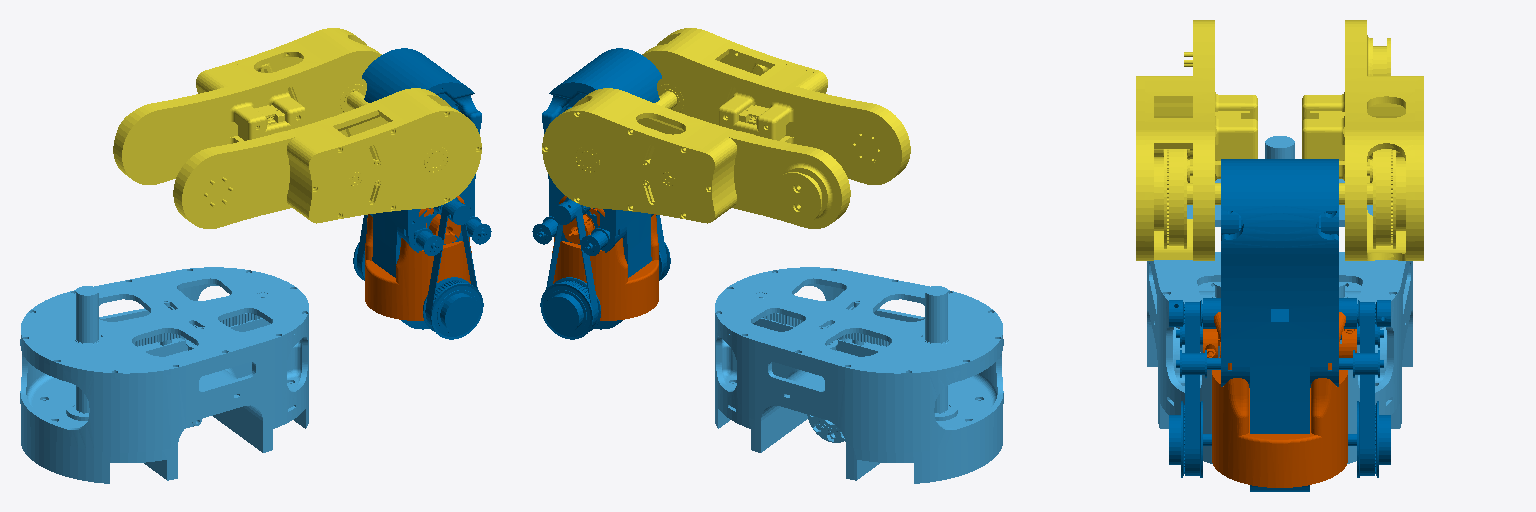
The robot description file, URDF, robot "robot_arm":
<?xml version="1.0"?>
<robot name="robot_arm">

  <link name="base">
    <visual>
      <origin xyz="0 0 0" rpy="0 0 0"/>
      <geometry>
        <mesh filename="package://robot_description/meshes_robot/base.stl" scale="0.001 0.001 0.001"/>
      </geometry>
    </visual>
  </link>

  <link name="link1">
    <visual>
      <origin xyz="0 0 0" rpy="0 0 0"/>
      <geometry>
        <mesh filename="package://robot_description/meshes_robot/link1.stl" scale="0.001 0.001 0.001"/>
      </geometry>
    </visual>
    <inertial>
      <mass value="0.3"/>
      <inertia ixx="1e-3" iyy="1e-3" izz="1e-3" ixy="0" ixz="0" iyz="0"/>
    </inertial>
  </link>

  <link name="link2">
    <visual>
      <origin xyz="0 0 0" rpy="0 0 0"/>
      <geometry>
        <mesh filename="package://robot_description/meshes_robot/link2.stl" scale="0.001 0.001 0.001"/>
      </geometry>
    </visual>
    <inertial>
      <mass value="0.3"/>
      <inertia ixx="1e-3" iyy="1e-3" izz="1e-3" ixy="0" ixz="0" iyz="0"/>
    </inertial>
  </link>

  <link name="link3">
    <visual>
      <origin xyz="0 0 0" rpy="0 0 0"/>
      <geometry>
        <mesh filename="package://robot_description/meshes_robot/link3.stl" scale="0.001 0.001 0.001"/>
      </geometry>
    </visual>
    <inertial>
      <mass value="0.3"/>
      <inertia ixx="1e-3" iyy="1e-3" izz="1e-3" ixy="0" ixz="0" iyz="0"/>
    </inertial>
  </link>

  <link name="link4">
    <visual>
      <origin xyz="0 0 0" rpy="0 0 0"/>
      <geometry>
        <mesh filename="package://robot_description/meshes_robot/link4.stl" scale="0.001 0.001 0.001"/>
      </geometry>
    </visual>
    <inertial>
      <mass value="0.2"/>
      <inertia ixx="1e-3" iyy="1e-3" izz="1e-3" ixy="0" ixz="0" iyz="0"/>
    </inertial>
  </link>

  <link name="link5">
    <visual>
      <origin xyz="0 0 0" rpy="0 0 0"/>
      <geometry>
        <mesh filename="package://robot_description/meshes_robot/link5.stl" scale="0.001 0.001 0.001"/>
      </geometry>
    </visual>
    <inertial>
      <mass value="0.1"/>
      <inertia ixx="5e-4" iyy="5e-4" izz="5e-4" ixy="0" ixz="0" iyz="0"/>
    </inertial>
  </link>

  <joint name="joint1" type="revolute">
    <parent link="base"/>
    <child link="link1"/>
    <origin xyz="0.109 0 0.1" rpy="0 0 0"/>
    <axis xyz="0 0 1"/>
    <limit lower="-3.14" upper="3.14" effort="10" velocity="1"/>
  </joint>

  <joint name="joint2" type="revolute">
    <parent link="link1"/>
    <child link="link2"/>
    <origin xyz="0 0 0.071" rpy="0 0 0"/>
    <axis xyz="0 1 0"/>
    <limit lower="-3.14" upper="3.14" effort="10" velocity="1"/>
  </joint>

  <joint name="joint3" type="revolute">
    <parent link="link2"/>
    <child link="link3"/>
    <origin xyz="0 0 0.175" rpy="0 1.5708 0"/>
    <axis xyz="0 1 0"/>
    <limit lower="-3.14" upper="3.14" effort="10" velocity="1"/>
  </joint>

  <joint name="joint4" type="revolute">
    <parent link="link3"/>
    <child link="link4"/>
    <origin xyz="0 0 0.23323854913922" rpy="0 1.5708 0"/>
    <axis xyz="0 1 0"/>
    <limit lower="-3.14" upper="3.14" effort="10" velocity="1"/>
  </joint>

  <joint name="joint5_fixed" type="fixed">
    <parent link="link4"/>
    <child link="link5"/>
    <origin xyz="0 0 0.0945" rpy="0 0 0"/>
  </joint>

</robot>

--- What the picture shows (computed from the rendered views, not written in the file) ---
Views: 3 orthographic renders of the robot side by side, from view 1: azimuth 30°, elevation 25°; view 2: azimuth 150°, elevation 25°; view 3: azimuth 270°, elevation 25°.
Model robot_arm with 6 links and 5 joints (4 revolute, 1 fixed), rooted at base, posed all joints at 0.
Visible links, largest first — view 1: link1, link3, link4, link5; view 2: link1, link3, link4, link5; view 3: link4, link3, link1, link5.
Link boxes in pixels (x1=…): link1: x1=20, y1=267, x2=308, y2=483; link3: x1=113, y1=28, x2=481, y2=228; link4: x1=353, y1=48, x2=491, y2=339; link5: x1=365, y1=196, x2=471, y2=320; link1: x1=715, y1=267, x2=1003, y2=483; link3: x1=542, y1=28, x2=910, y2=228; link4: x1=532, y1=48, x2=670, y2=339; link5: x1=552, y1=196, x2=658, y2=320; link4: x1=1169, y1=159, x2=1390, y2=491; link3: x1=1136, y1=20, x2=1423, y2=260; link1: x1=1147, y1=136, x2=1412, y2=463; link5: x1=1203, y1=312, x2=1356, y2=487.
Bounding box of the posed robot: 0.4263 × 0.194 × 0.2929 m (x, y, z).
Meshes: 6 distinct files referenced, 4 mesh visuals loaded (4 binary STL); not drawn: 2 (reference not matched to a file when rendering).
